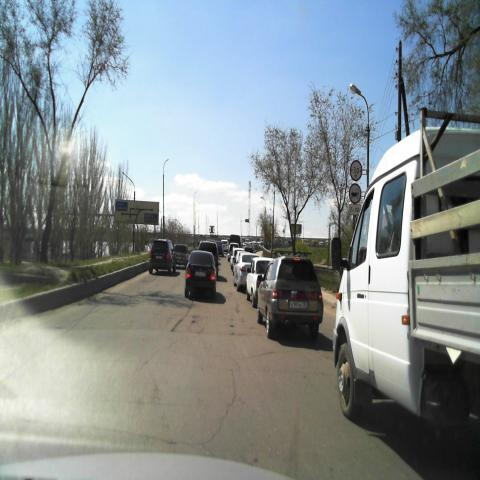3_14: (350, 160, 362, 181)
3_6: (348, 183, 362, 204)
8_5_4: (349, 205, 362, 214)
